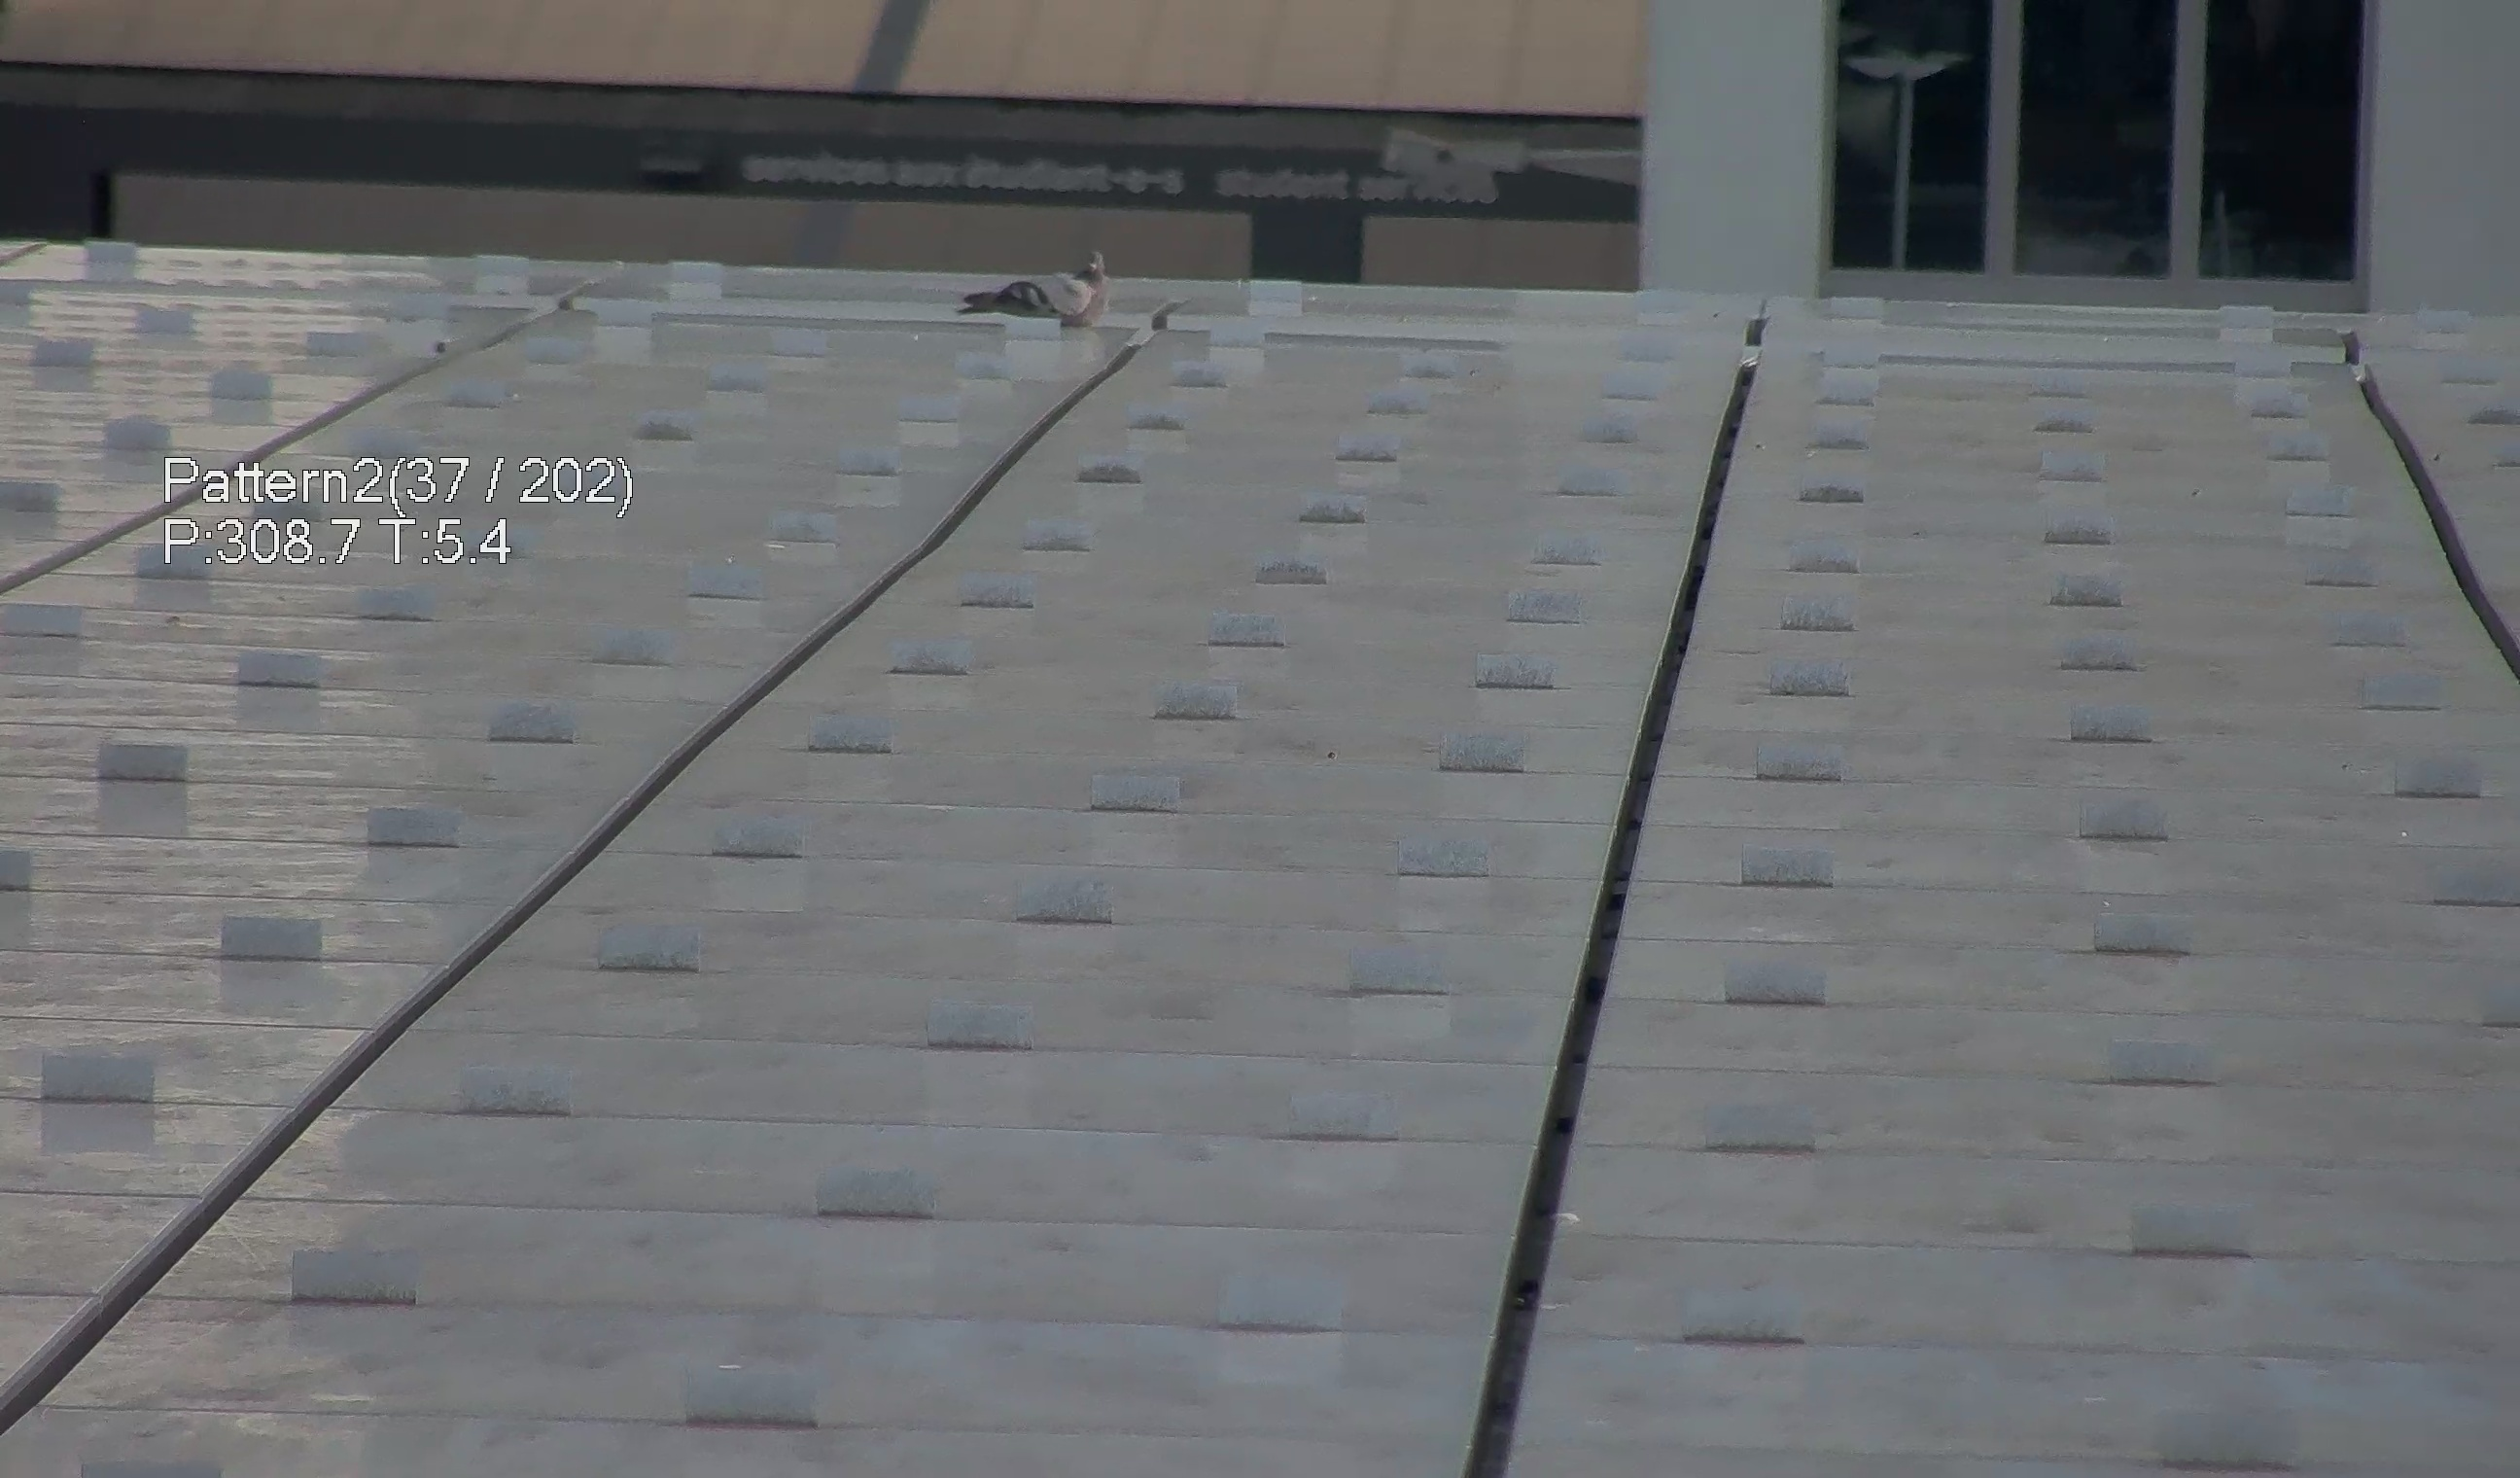Pigeon: (957, 241, 1111, 329)
